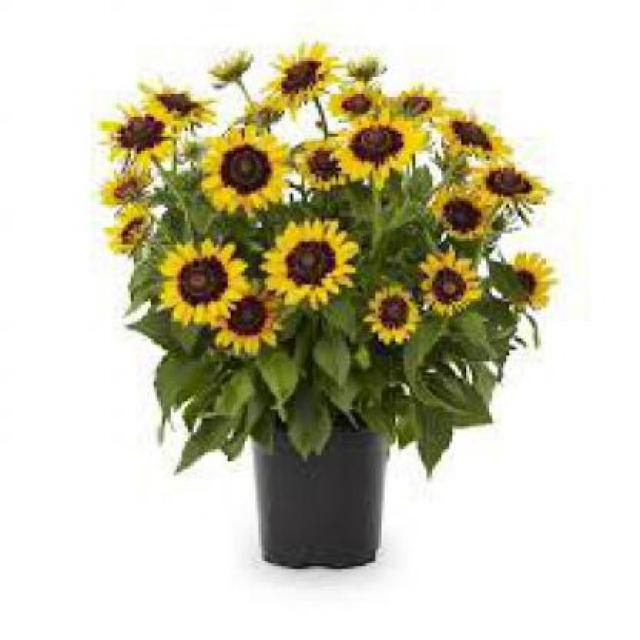Flower: (196, 123, 296, 220), (259, 216, 362, 310), (156, 236, 250, 327), (330, 114, 433, 194), (208, 276, 291, 356), (259, 43, 347, 111), (96, 103, 182, 169), (427, 179, 504, 245), (415, 245, 483, 316), (463, 162, 552, 216), (133, 77, 219, 131), (430, 109, 515, 163), (361, 285, 421, 345), (498, 253, 560, 310), (291, 139, 352, 193), (379, 86, 446, 132), (325, 83, 392, 128), (97, 162, 157, 211), (100, 201, 154, 254), (222, 145, 271, 197), (179, 256, 228, 302), (288, 242, 335, 285), (350, 126, 404, 163), (116, 114, 169, 151), (225, 296, 265, 336), (450, 117, 492, 154), (484, 165, 531, 197), (444, 196, 484, 233), (429, 268, 466, 305), (373, 290, 407, 330), (282, 60, 322, 94), (307, 149, 344, 180), (153, 92, 199, 116), (506, 270, 539, 302), (401, 94, 433, 117), (341, 94, 373, 114)
